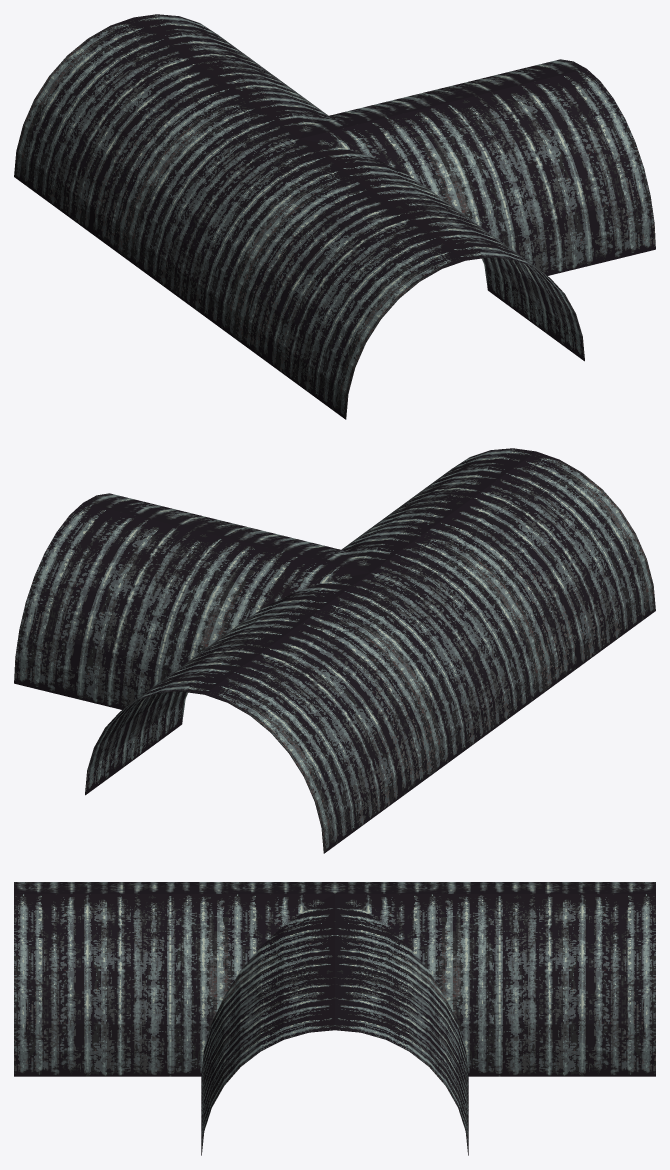
File: SM_EU_MetalTunnel_T_0.fbx
3 renders of one model, top to bottom at view 1: azimuth 30°, elevation 25°; view 2: azimuth 150°, elevation 25°; view 3: azimuth 270°, elevation 25°, orthographic. The views are drawn at different scales.
Parts seen in each view (by area): view 1: SM_EU_MetalTunnel_T_0; view 2: SM_EU_MetalTunnel_T_0; view 3: SM_EU_MetalTunnel_T_0.
Part boxes in pixels (<box>): SM_EU_MetalTunnel_T_0: <box>14,14,655,419</box>; SM_EU_MetalTunnel_T_0: <box>14,448,655,853</box>; SM_EU_MetalTunnel_T_0: <box>14,882,655,1155</box>.
Size of the model in its own units: 8.5 by 12 by 2.6.
